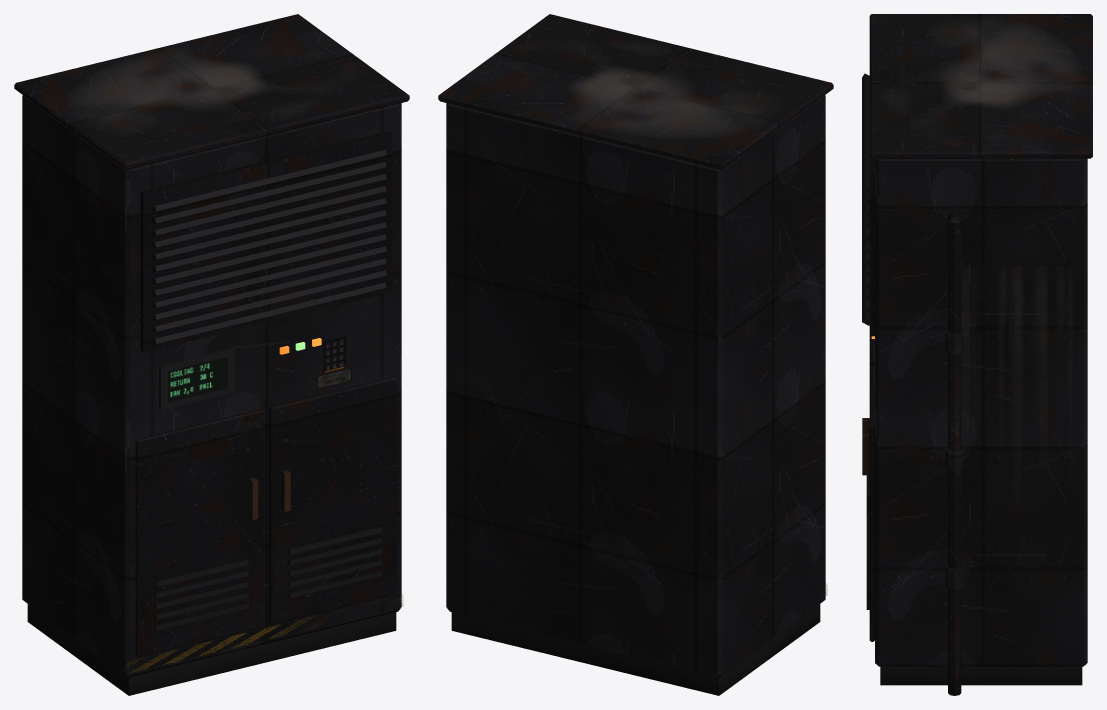
File: crac_unit.glb
3 views of the same model, side by side, from view 1: azimuth 30°, elevation 25°; view 2: azimuth 150°, elevation 25°; view 3: azimuth 270°, elevation 25° (orthographic).
Parts seen in each view (by area): view 1: body, decals, screens, panels; view 2: body, decals; view 3: body, decals.
Part boxes in pixels (bbox=[...]): body: bbox=[14, 14, 409, 695]; decals: bbox=[80, 56, 403, 673]; screens: bbox=[168, 356, 227, 402]; panels: bbox=[323, 336, 346, 372]; body: bbox=[438, 14, 833, 695]; decals: bbox=[572, 67, 827, 594]; body: bbox=[862, 14, 1092, 695]; decals: bbox=[941, 25, 1072, 403].
Size of what is drawn, in the model's own units: 1.31 by 2.23 by 0.868.
14 materials, 9 textured.
